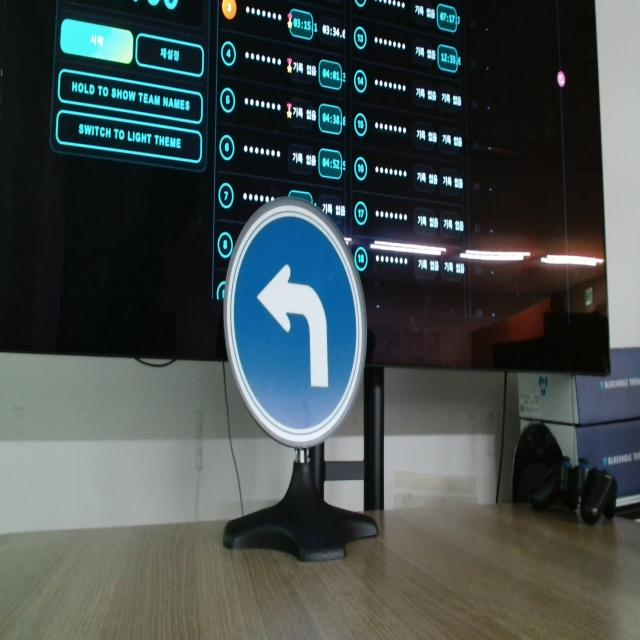left_direction: (221, 168, 393, 464)
